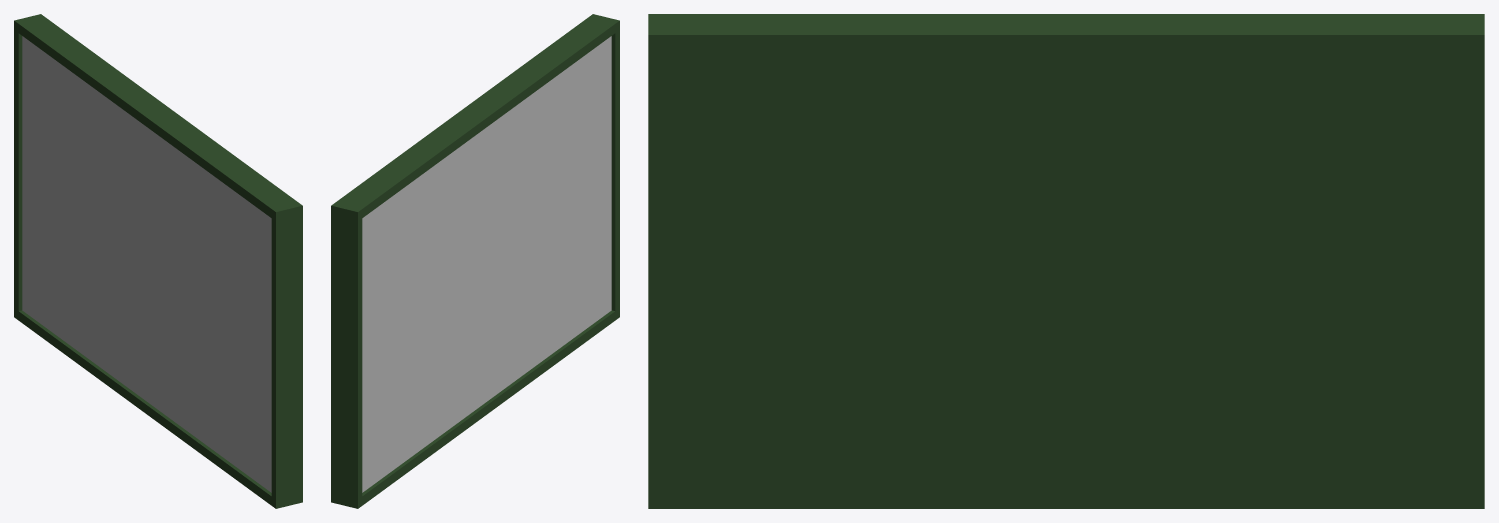
File: TV_Screen 1.fbx
The picture shows the model from 3 angles, left to right: view 1: azimuth 30°, elevation 25°; view 2: azimuth 150°, elevation 25°; view 3: azimuth 270°, elevation 25°; orthographic projection. The views are drawn at different scales.
Parts seen in each view (by area): view 1: pCube9; view 2: pCube9; view 3: pCube9.
Boxes of the visible parts, box(x1,y1,x2,y2) form: pCube9: box(14, 14, 302, 508); pCube9: box(331, 14, 619, 508); pCube9: box(648, 14, 1484, 508).
Bounding box in the file's own units: 0.0552 × 0.5836 × 0.9333.
